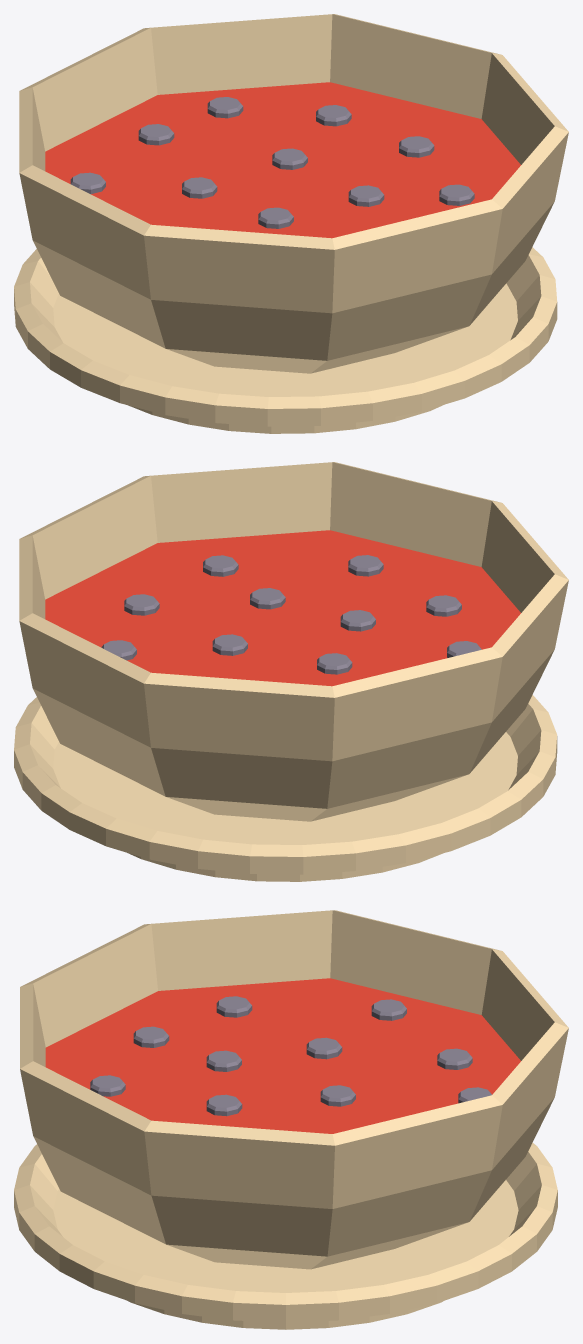
File: soup_03.fbx
3 renders of one model, top to bottom at view 1: azimuth 30°, elevation 25°; view 2: azimuth 150°, elevation 25°; view 3: azimuth 270°, elevation 25°, orthographic.
Parts seen in each view (by area): view 1: BezierCurve.002; view 2: BezierCurve.002; view 3: BezierCurve.002.
Part boxes in pixels (x1,y1,x2,y2): BezierCurve.002: (14,14,568,433); BezierCurve.002: (14,462,568,881); BezierCurve.002: (14,910,568,1329).
Size of the model in its own units: 205 by 87.28 by 204.
